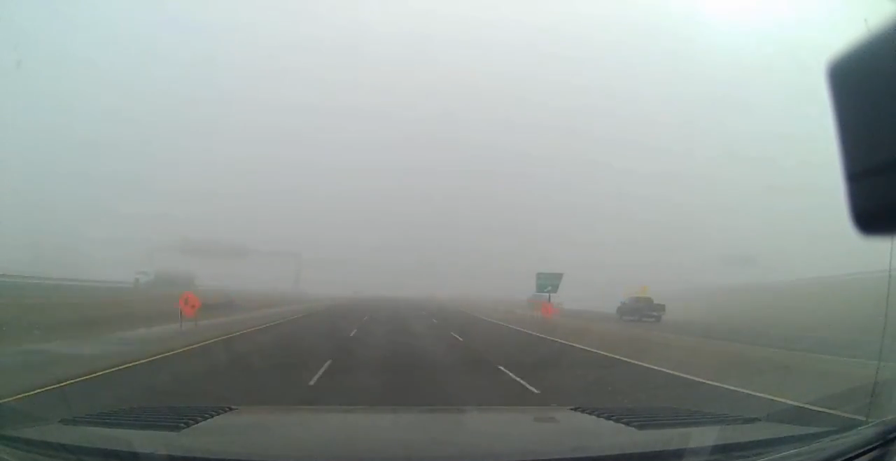car: (616, 294, 667, 323)
